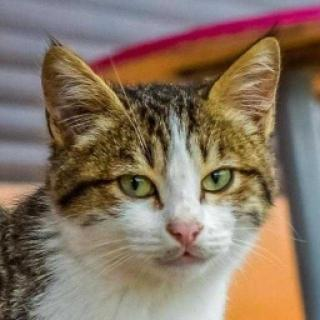cat: (41, 31, 287, 292)
nose: (158, 202, 208, 252)
